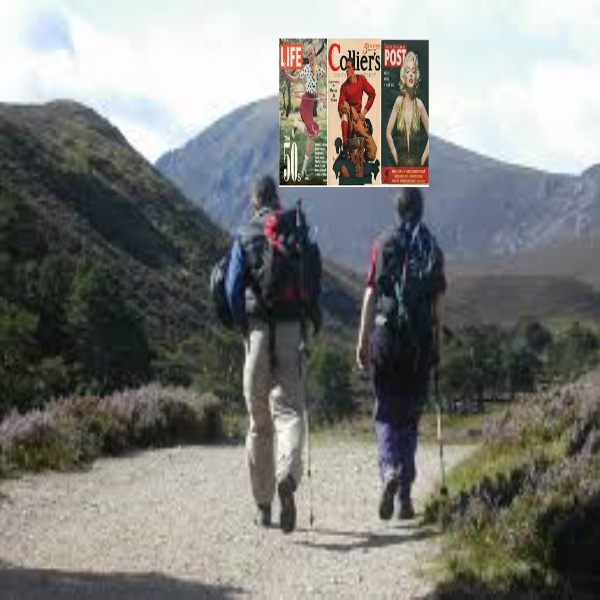time_cover: (276, 35, 430, 188)
